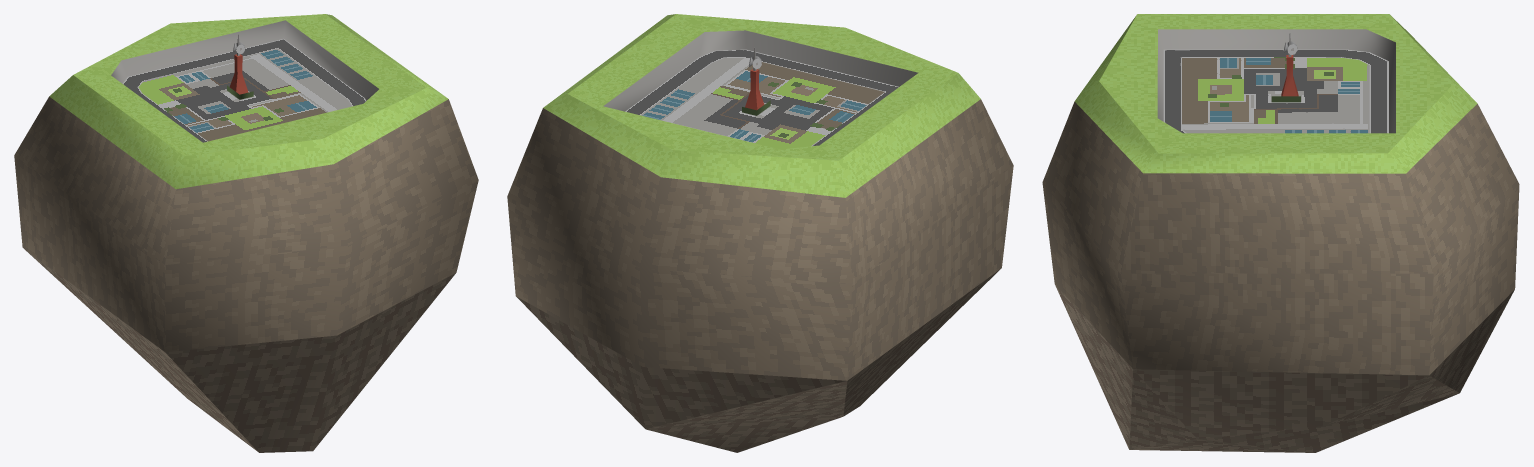
Rendered from 0542_Demo_Island.glb.
3 views of the same model, side by side, from view 1: azimuth 30°, elevation 25°; view 2: azimuth 150°, elevation 25°; view 3: azimuth 270°, elevation 25° (orthographic). The views are drawn at different scales.
Visible parts, largest first — view 1: part_0; view 2: part_0; view 3: part_0.
Part boxes in pixels (x1,y1,x2,y2): part_0: [14, 14, 478, 452]; part_0: [507, 14, 1013, 452]; part_0: [1042, 14, 1519, 452].
Bounding box in the file's own units: 45.35 × 49.35 × 51.11.
Materials: 1 (1 with a texture image).
